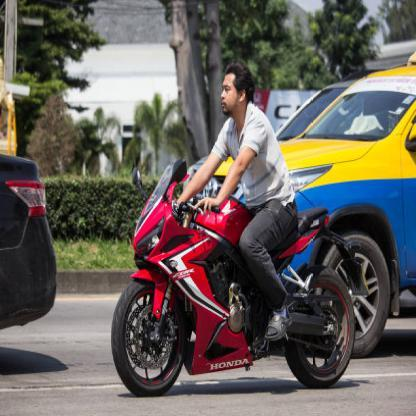Motorcycle: (111, 163, 358, 399)
